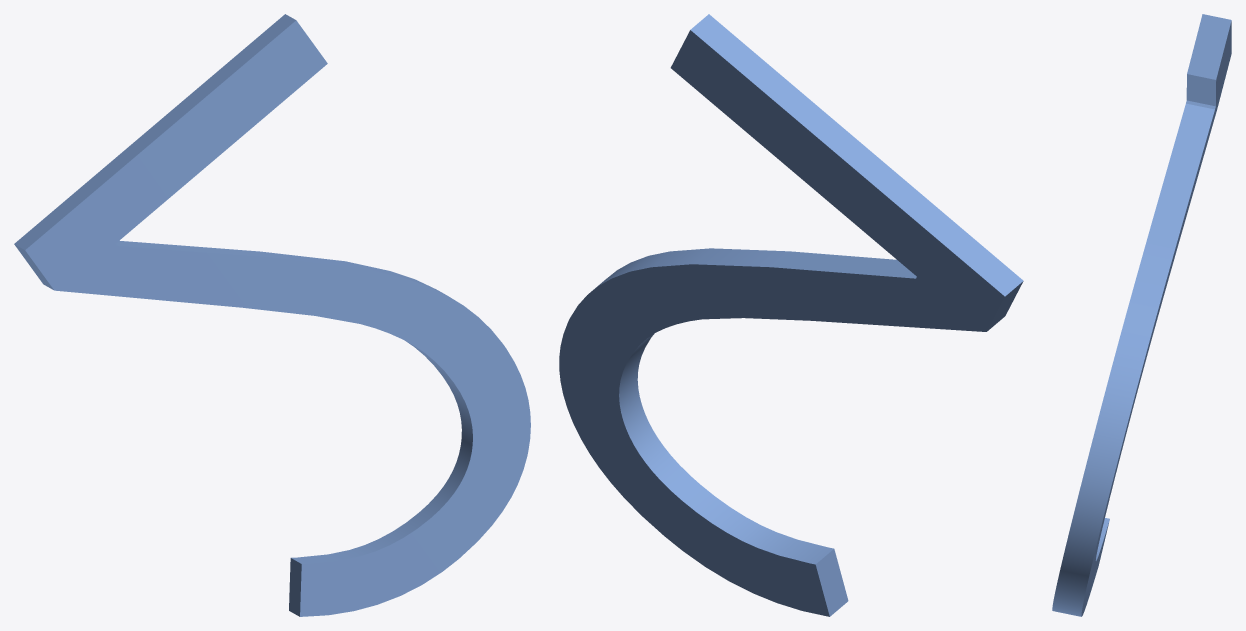
The model's file is New_Number_2.gltf.
3 renders of one model, left to right at view 1: azimuth 30°, elevation 25°; view 2: azimuth 150°, elevation 25°; view 3: azimuth 270°, elevation 25°, orthographic. The views are drawn at different scales.
Visible parts, largest first — view 1: Part 479; view 2: Part 479; view 3: Part 479.
Part boxes in pixels (x1,y1,x2,y2): Part 479: (14,14,530,616); Part 479: (559,14,1023,616); Part 479: (1052,14,1231,616).
Bounding box in the file's own units: 0.00472 × 0.0055 × 0.00153.
